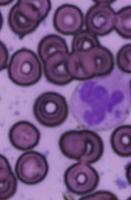N: (68, 74, 130, 130)
